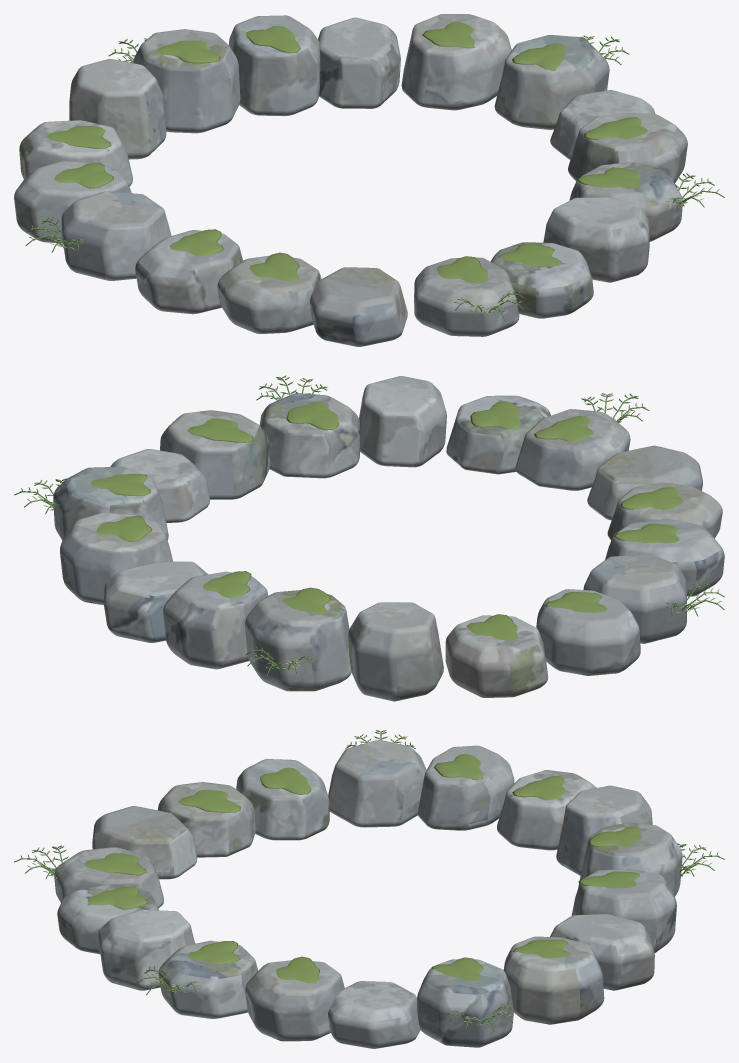
File: SM_SF_SpringRockRing.fbx
3 renders of one model, top to bottom at view 1: azimuth 30°, elevation 25°; view 2: azimuth 150°, elevation 25°; view 3: azimuth 270°, elevation 25°, orthographic. The views are drawn at different scales.
Parts seen in each view (by area): view 1: SM_SF_SpringRockRing; view 2: SM_SF_SpringRockRing; view 3: SM_SF_SpringRockRing.
Boxes of the visible parts, bbox=[...] form: SM_SF_SpringRockRing: bbox=[14, 14, 724, 346]; SM_SF_SpringRockRing: bbox=[14, 375, 724, 701]; SM_SF_SpringRockRing: bbox=[14, 730, 724, 1048].
Size of the model in its own units: 6.49 by 6.52 by 0.6839.
